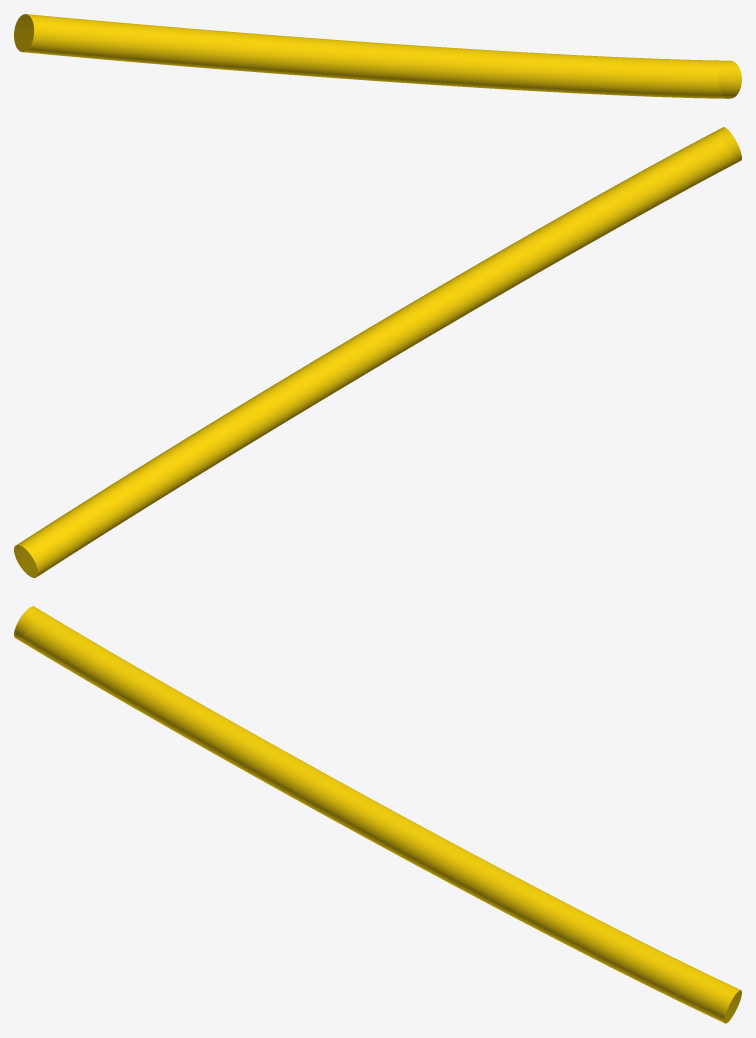
The model's file is Event_420094457_track_59.fbx.
The picture shows the model from 3 angles, top to bottom: view 1: azimuth 30°, elevation 25°; view 2: azimuth 210°, elevation 25°; view 3: azimuth 330°, elevation 25°; orthographic projection. The views are drawn at different scales.
Parts seen in each view (by area): view 1: Model; view 2: Model; view 3: Model.
Boxes of the visible parts, bbox=[...] form: Model: bbox=[14, 14, 741, 98]; Model: bbox=[14, 127, 741, 577]; Model: bbox=[14, 606, 741, 1023].
Size of the model in its own units: 0.8793 by 0.3057 by 0.0727.
